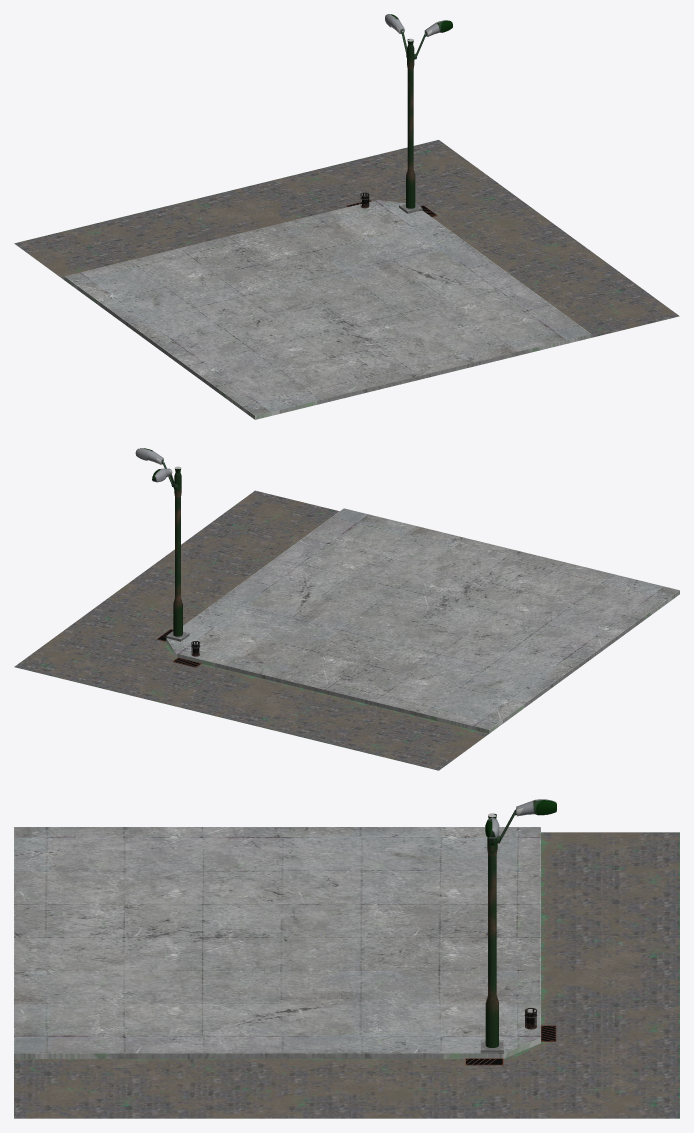
The model's file is StreetModel.glb.
The picture shows the model from 3 angles, top to bottom: view 1: azimuth 30°, elevation 25°; view 2: azimuth 150°, elevation 25°; view 3: azimuth 270°, elevation 25°; orthographic projection. The views are drawn at different scales.
Parts seen in each view (by area): view 1: Trash.004; view 2: Trash.004; view 3: Trash.004.
Boxes of the visible parts, bbox=[...] form: Trash.004: bbox=[14, 14, 679, 419]; Trash.004: bbox=[14, 448, 679, 770]; Trash.004: bbox=[14, 799, 679, 1118].
Bounding box in the file's own units: 66.49 × 27.53 × 65.37.
Materials: 5 (5 with a texture image).
